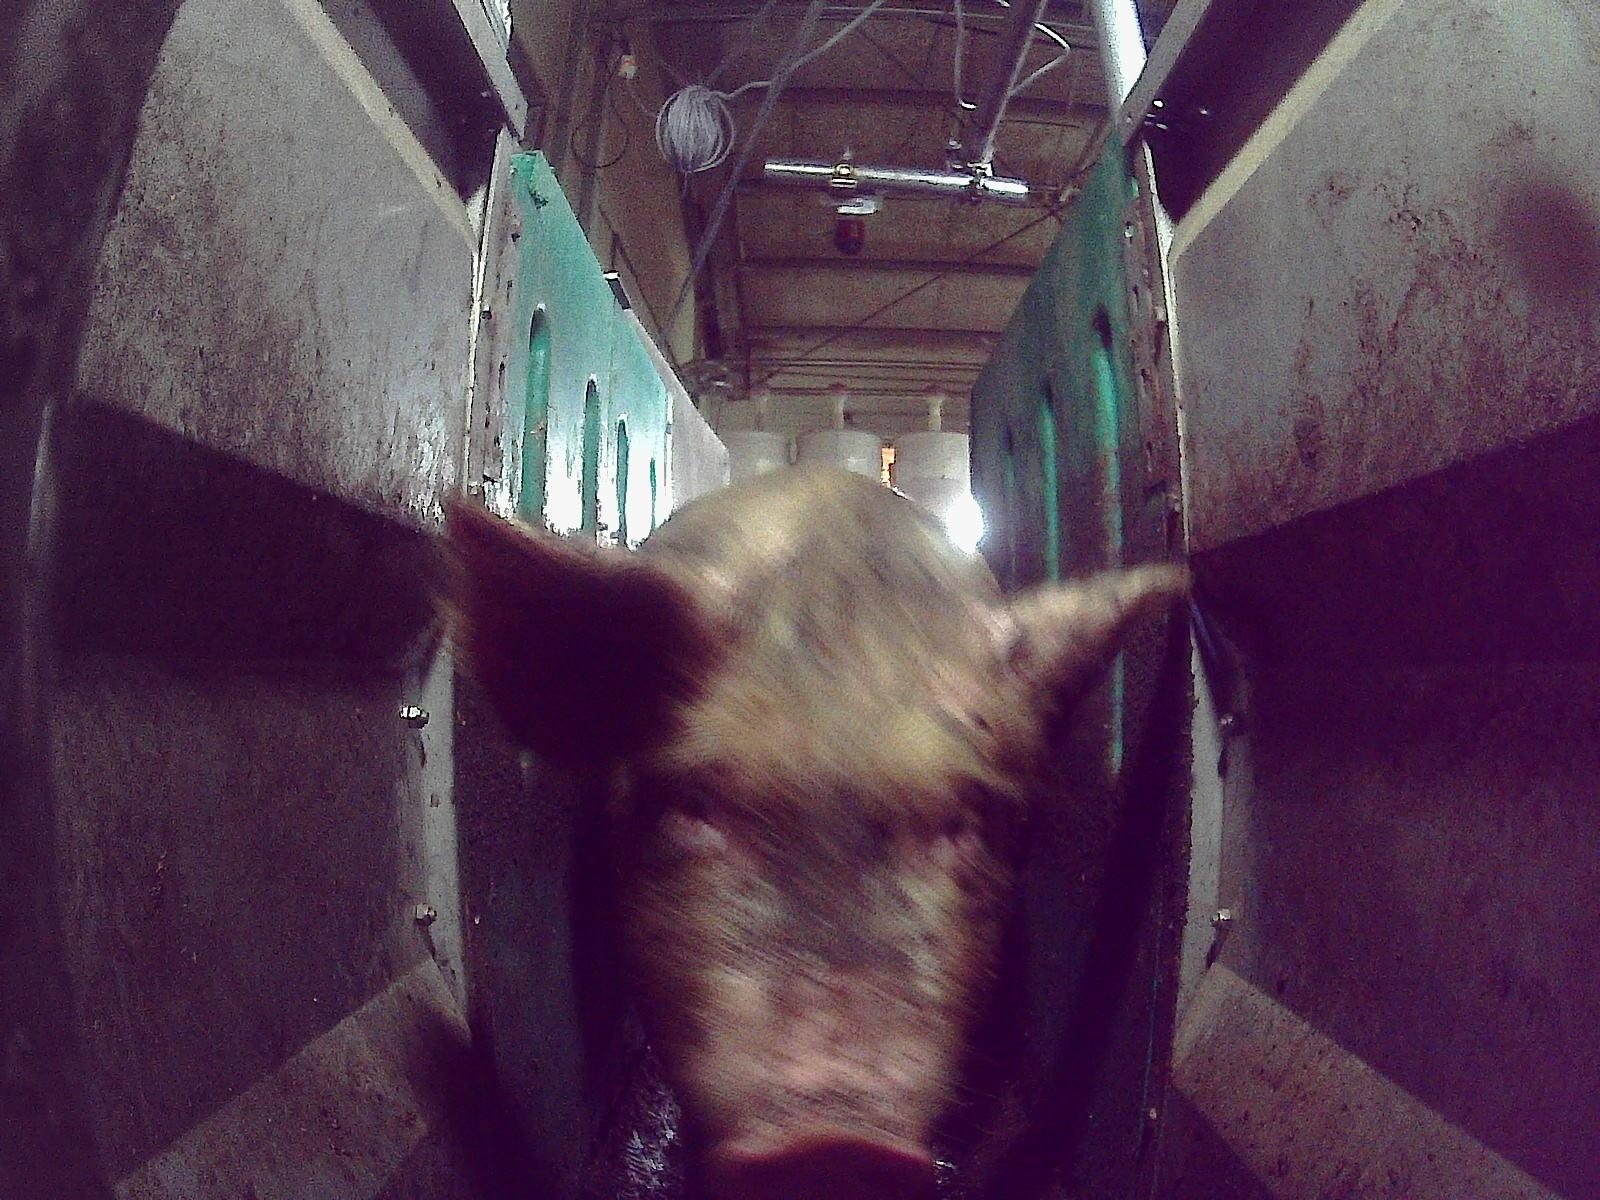Face: (599, 538, 1047, 1199)
